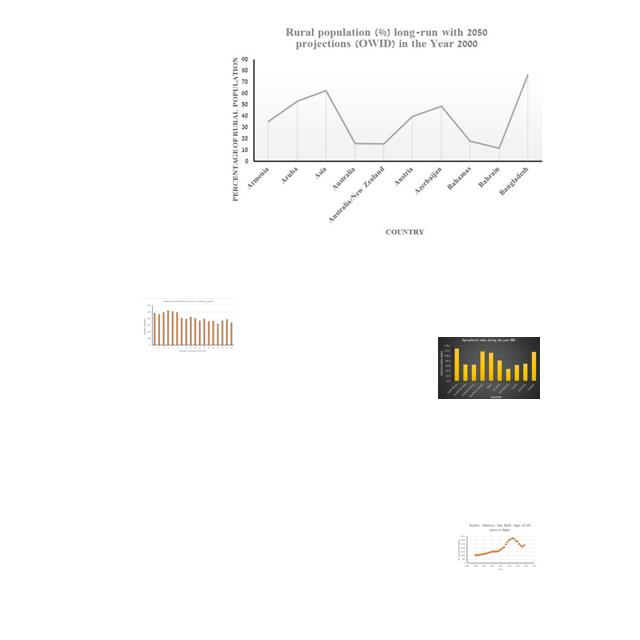Graph: (231, 25, 545, 240), (438, 337, 540, 399), (141, 298, 236, 355), (455, 523, 538, 572)
